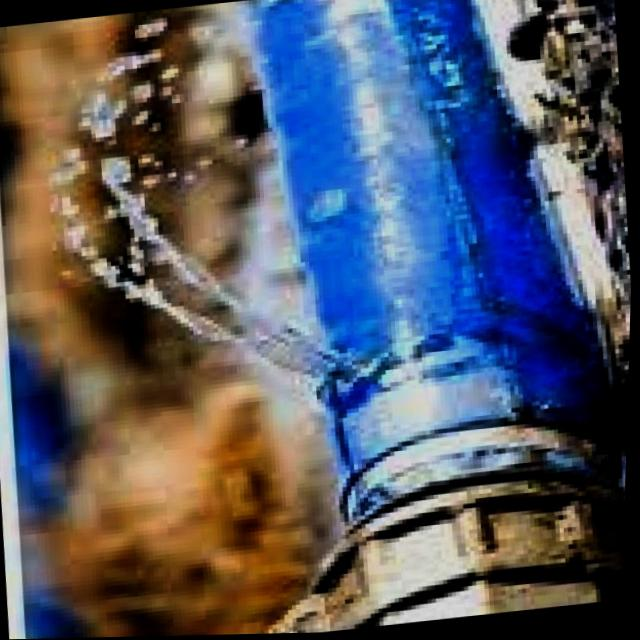leak: (73, 155, 358, 384)
